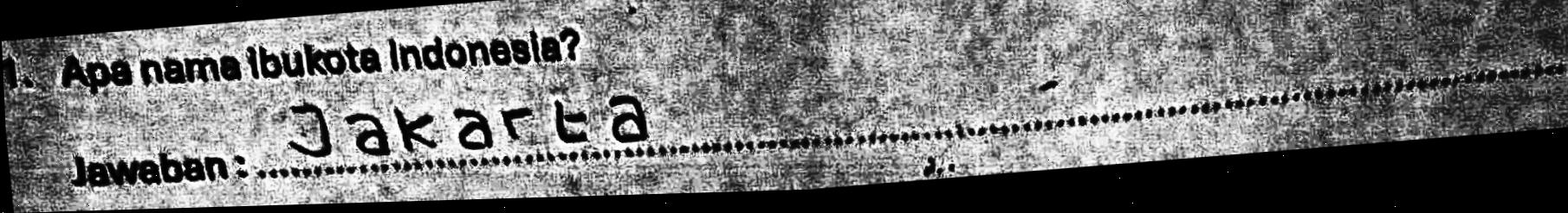jawaban: (286, 80, 660, 175)
